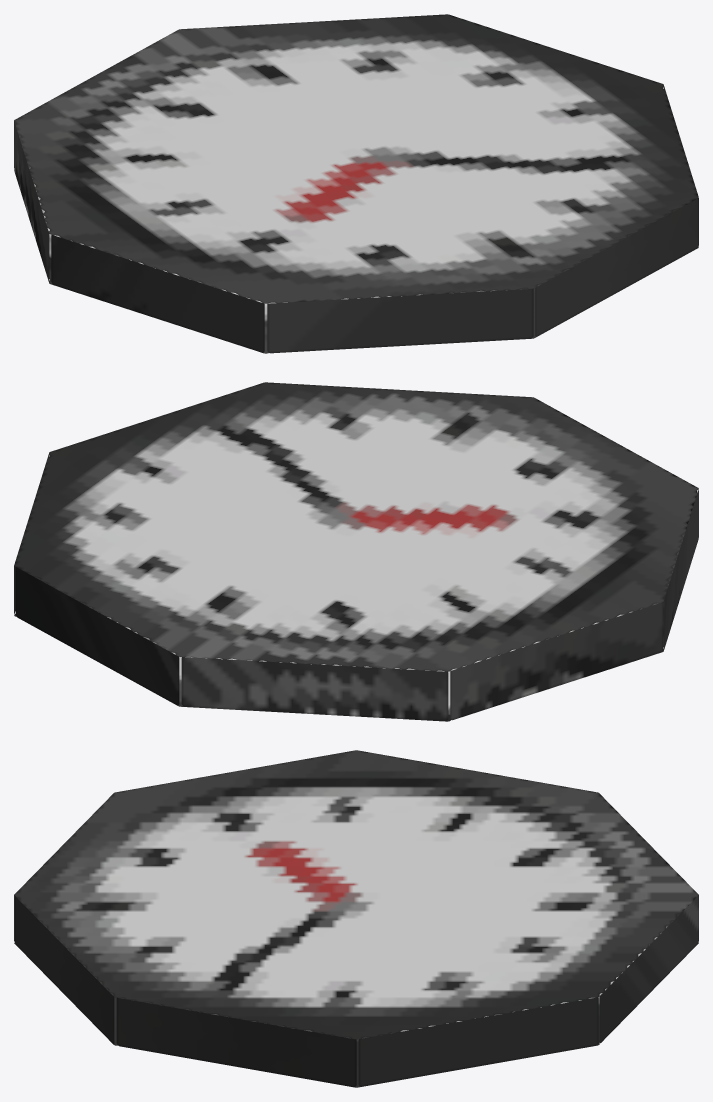
File: pz_house_clock_round.obj
The picture shows the model from 3 angles, top to bottom: view 1: azimuth 30°, elevation 25°; view 2: azimuth 150°, elevation 25°; view 3: azimuth 270°, elevation 25°; orthographic projection. The views are drawn at different scales.
Parts seen in each view (by area): view 1: pz_house_clock_round_|_1_parte_1; view 2: pz_house_clock_round_|_1_parte_1; view 3: pz_house_clock_round_|_1_parte_1.
Boxes of the visible parts, x1,y1,x2,y2 form: pz_house_clock_round_|_1_parte_1: [14, 14, 698, 353]; pz_house_clock_round_|_1_parte_1: [14, 382, 698, 721]; pz_house_clock_round_|_1_parte_1: [14, 750, 698, 1087].
Bounding box in the file's own units: 0.5156 × 0.04 × 0.5156.
Materials: 1 (1 with a texture image).
